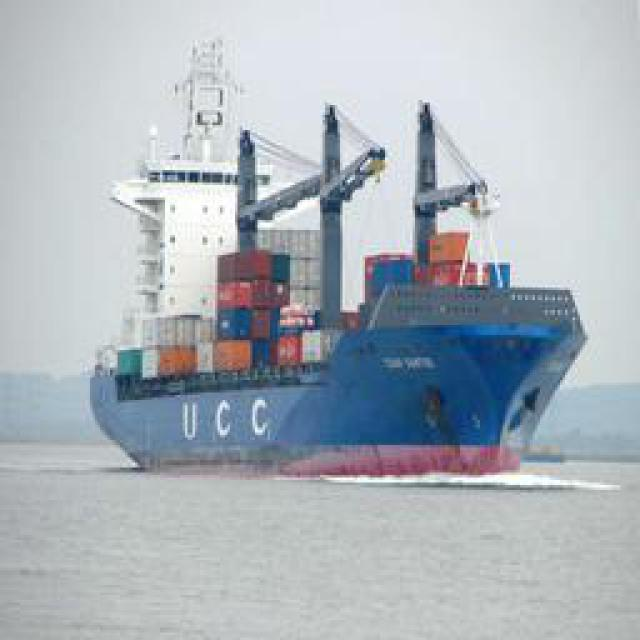Ship: (87, 53, 627, 468)
